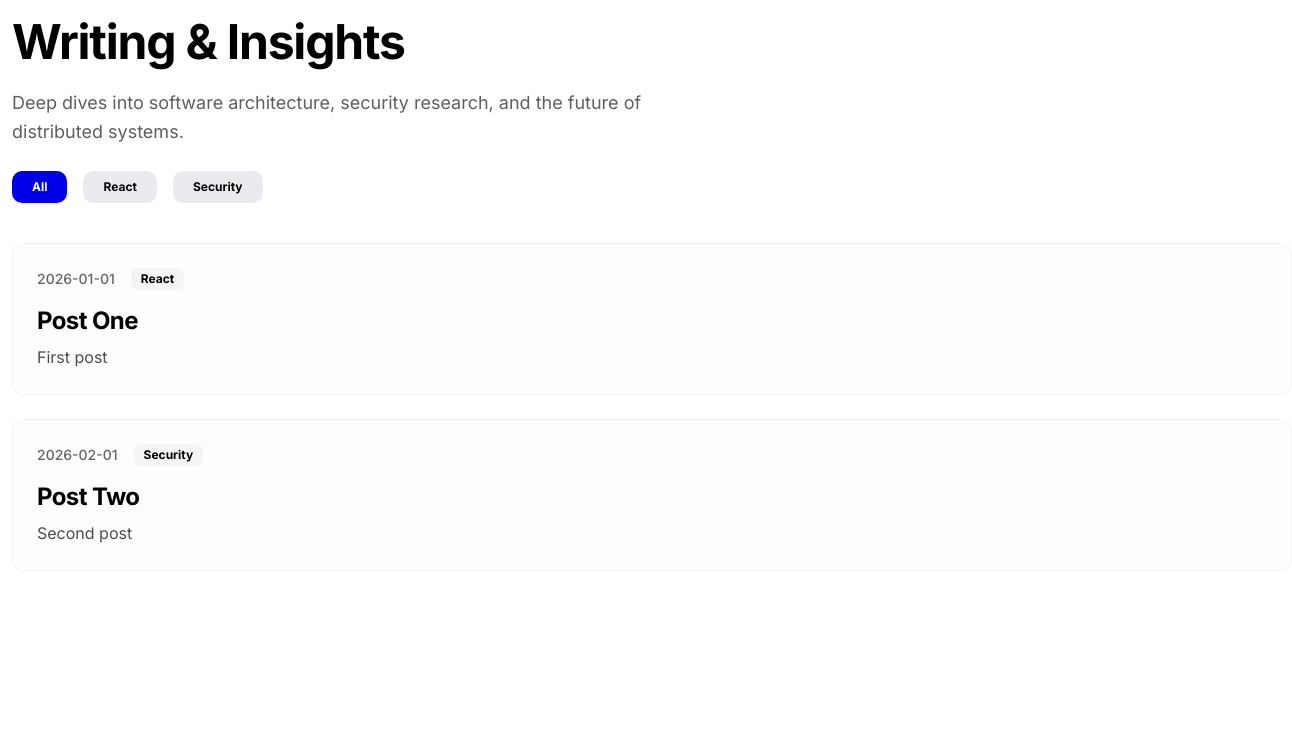
Test: BlogList wrapper wiring › restores all articles via the 'All' chip
The width and height of the screenshot is (1292, 732).
Click the text with class "cursor-pointer": (218, 186) 173,170 -> 262,202
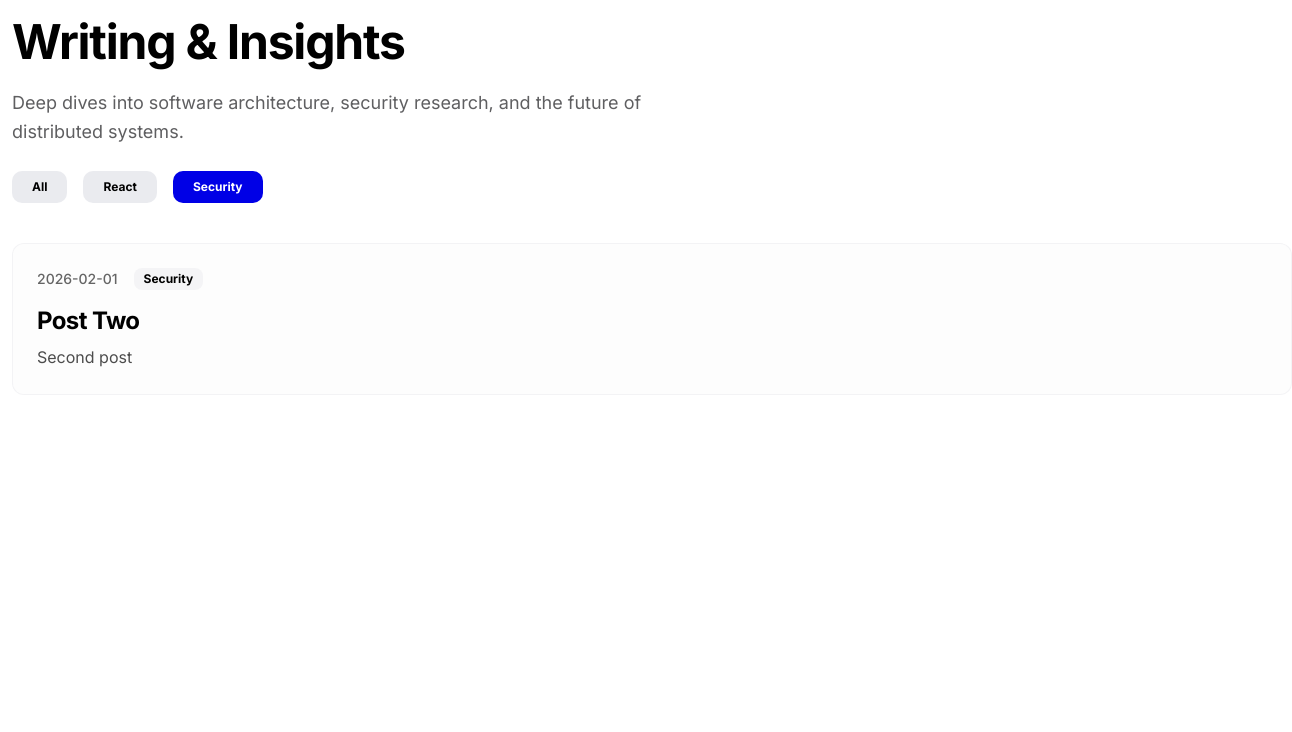
Check: the link "Post One" is gone
Click the text with class "cursor-pointer": (40, 186) 12,170 -> 68,202
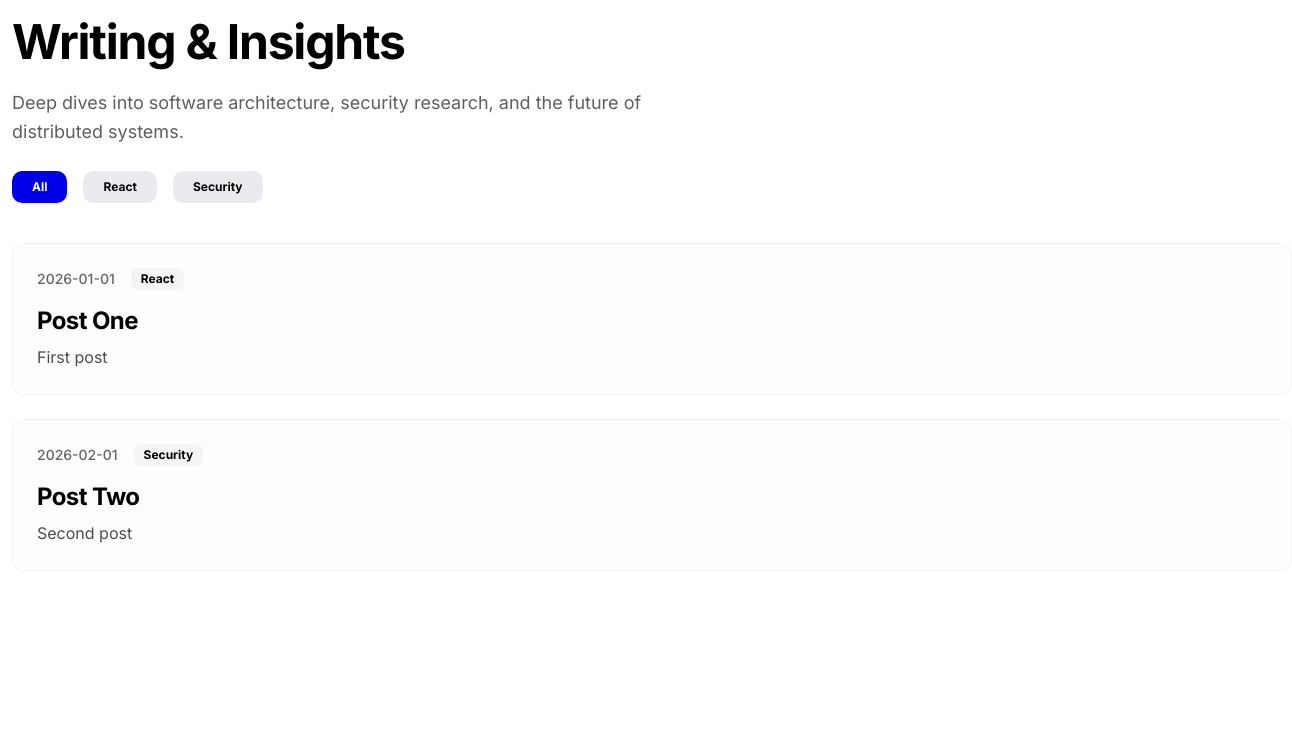
Check: the heading "Post Two" is shown, box 37,482 -> 140,510
Check: the heading "Post One" is shown, box 37,306 -> 138,334
